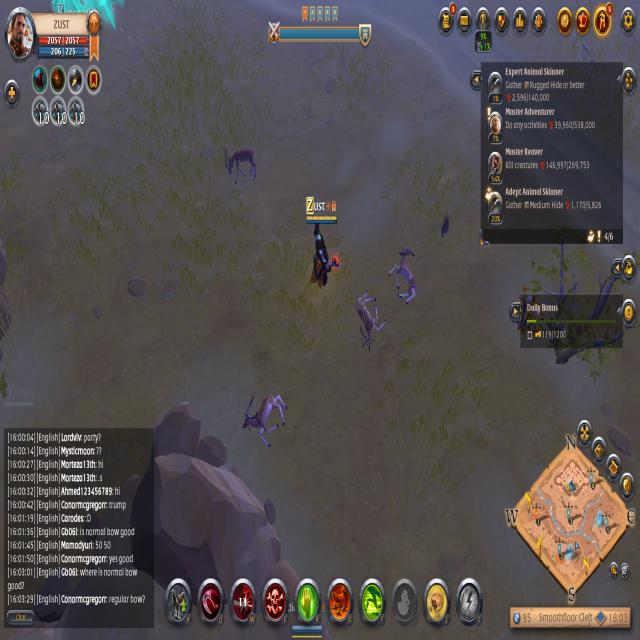deer_alive: (214, 140, 264, 189)
deer_dead: (237, 376, 292, 459), (380, 236, 426, 315), (353, 290, 390, 355)
